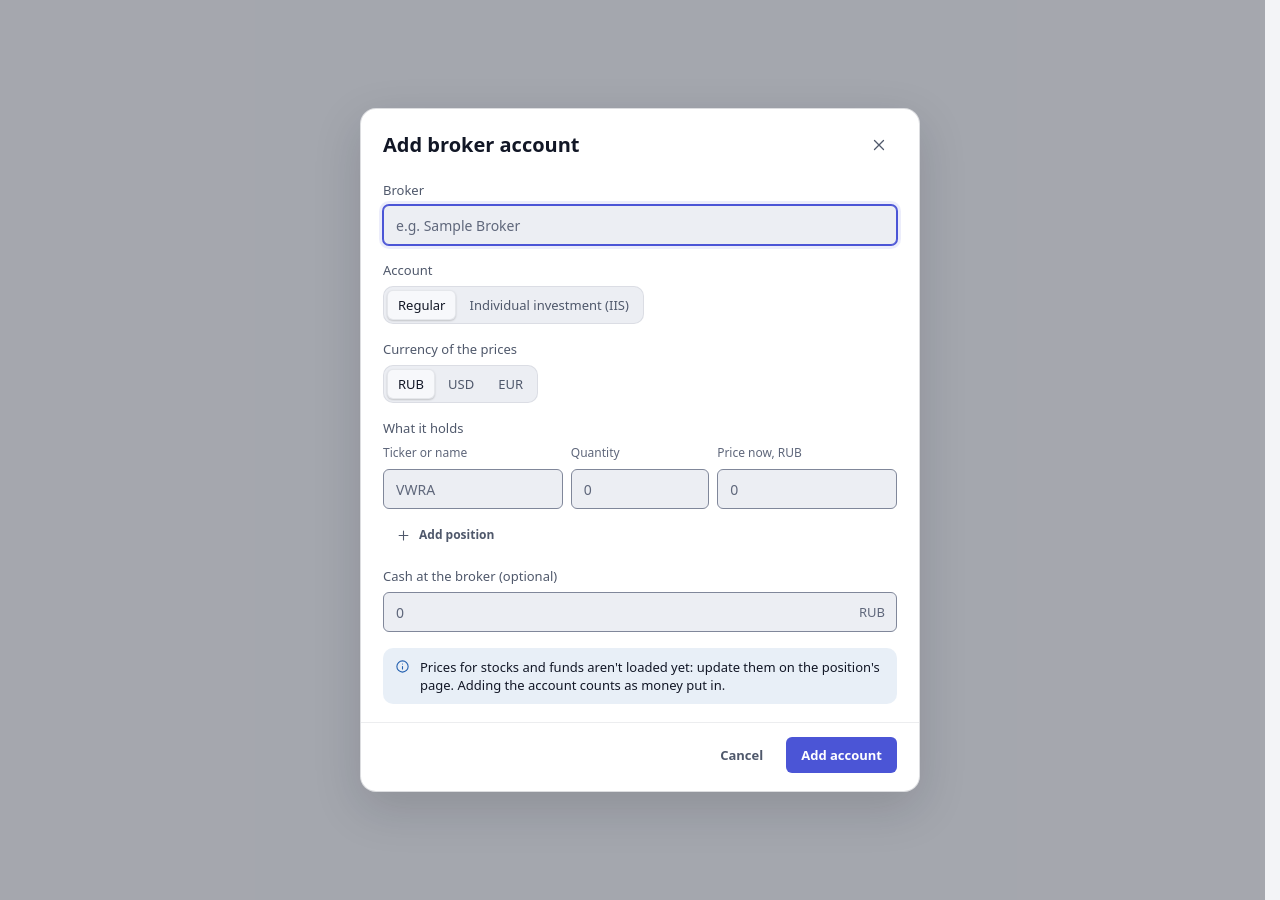
Test: BROKER-ADD Add broker account › checks the rate against the Moscow date, as the server does
Click the radio button labelled "USD". click: (461, 384)
box: [448,375,474,393]
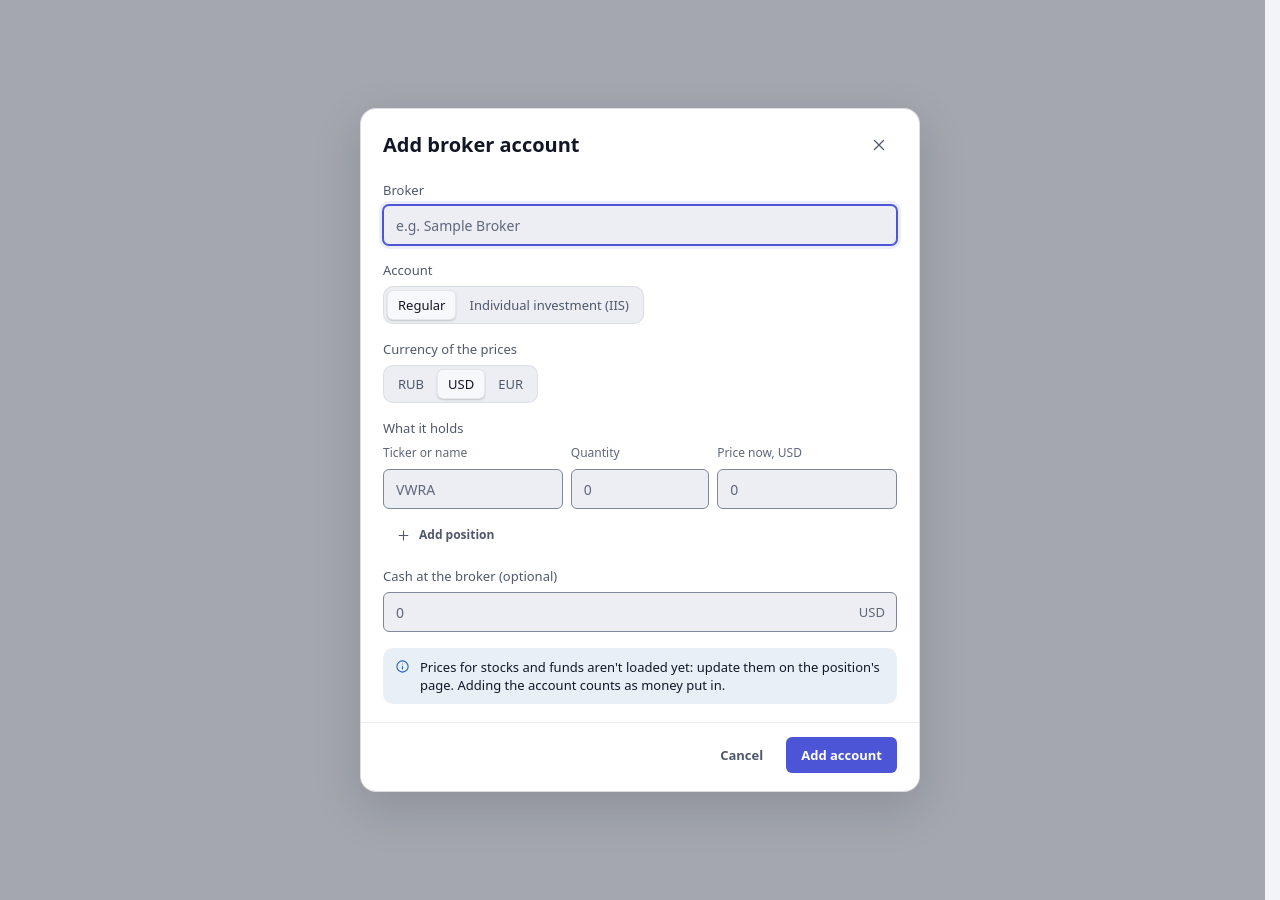
Click the radio button labelled "RUB". click: (411, 384)
box: [398,375,424,393]
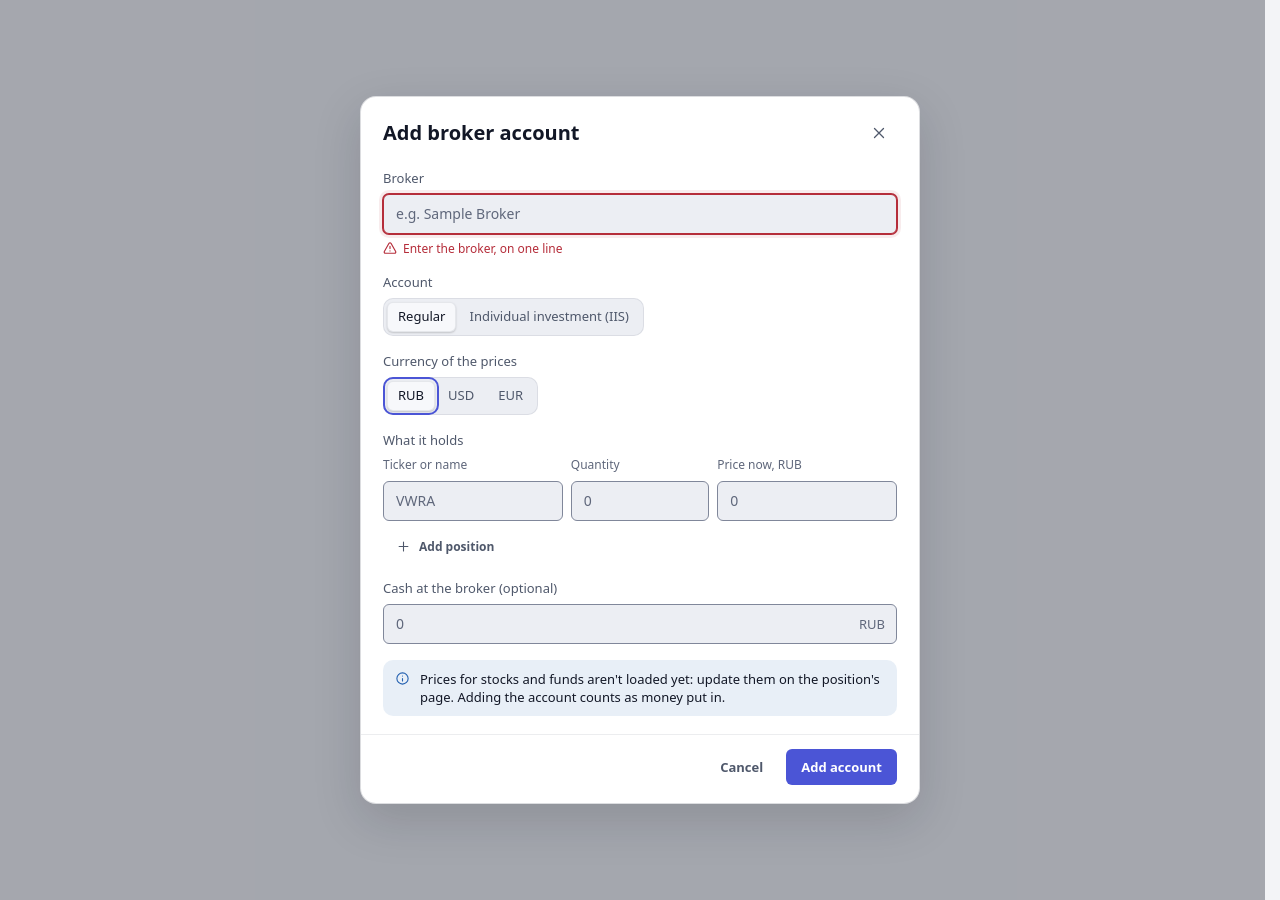
Type "Sample Broker" into the field labelled "Broker". click: (640, 214)
box: [383,194,897,234]
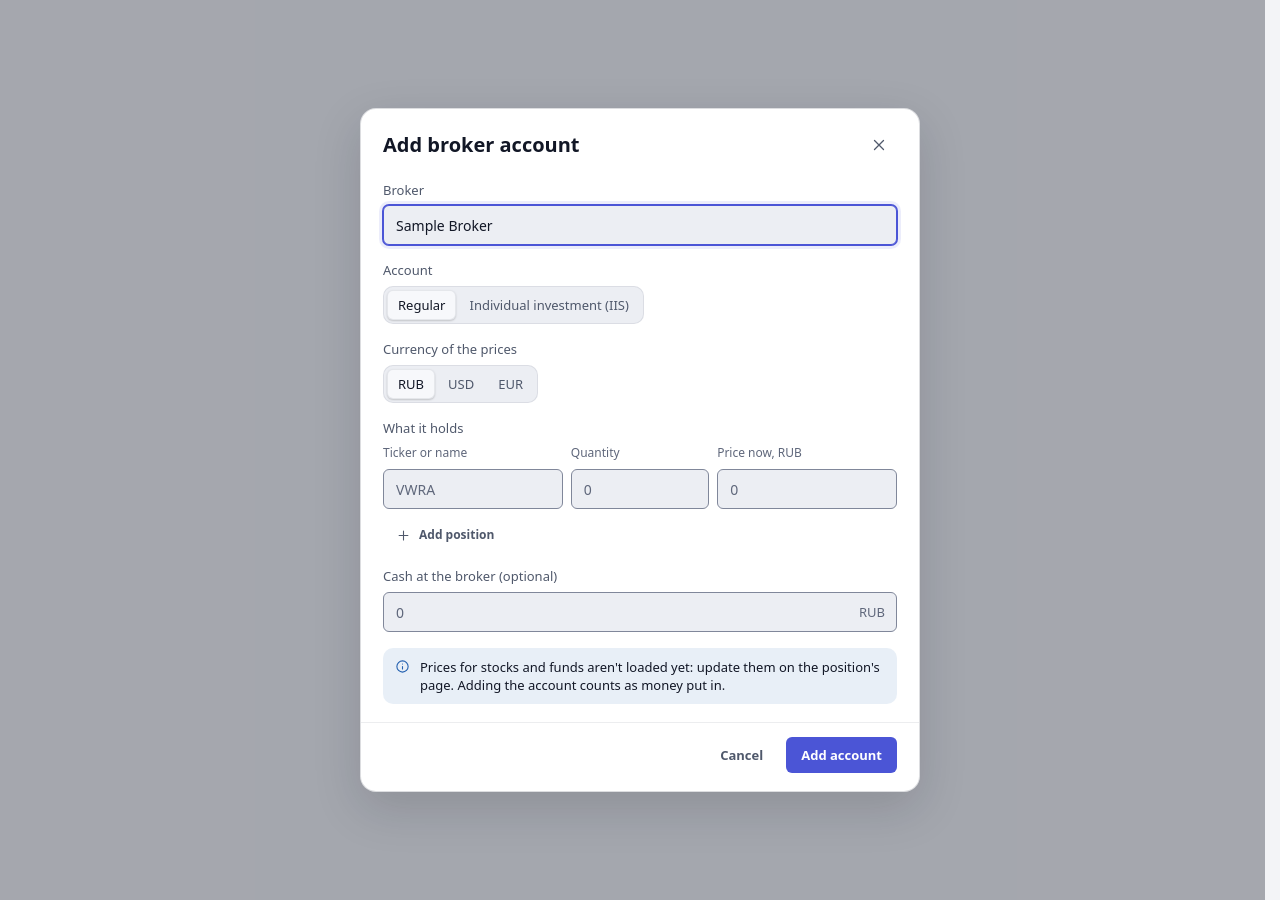
Type "250" into the field labelled "Cash at the broker (optional)". click: (640, 612)
box: [383,592,897,632]
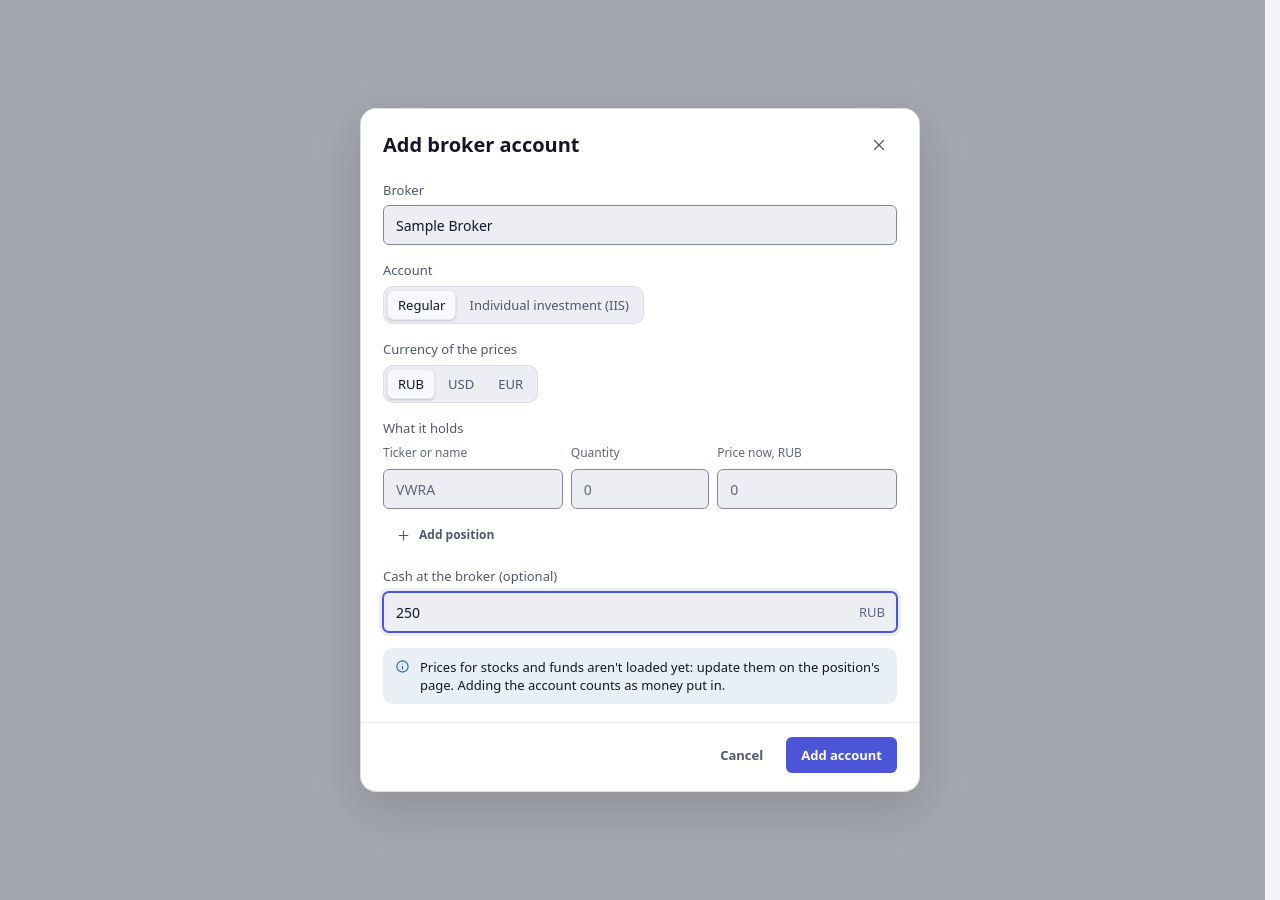
Click the button "Add account". click: (842, 756)
box: [786,738,897,774]
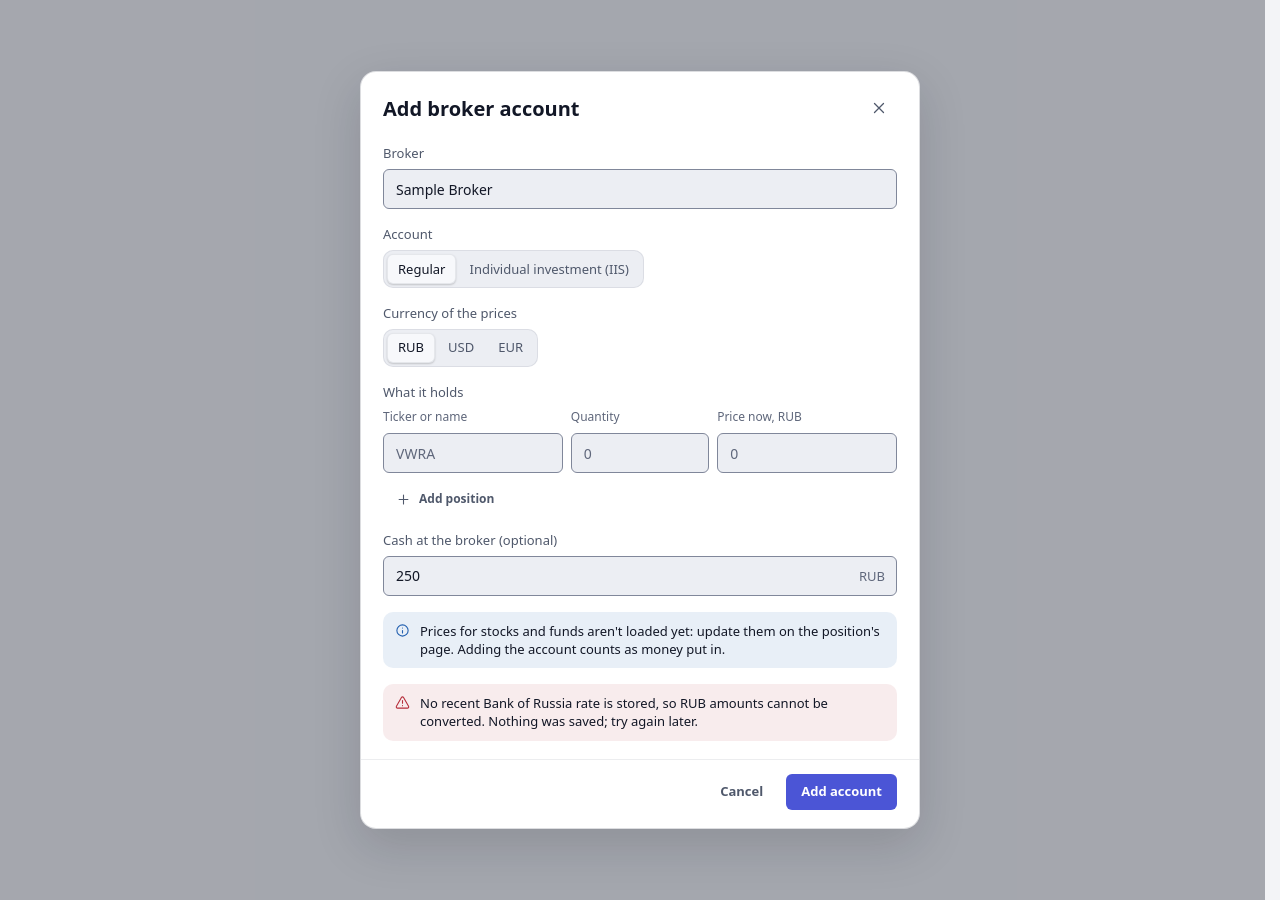
Expected: the message shows "No recent Bank of Russia rate is stored, so RUB amounts cannot be converted.", [420,694,828,730]
